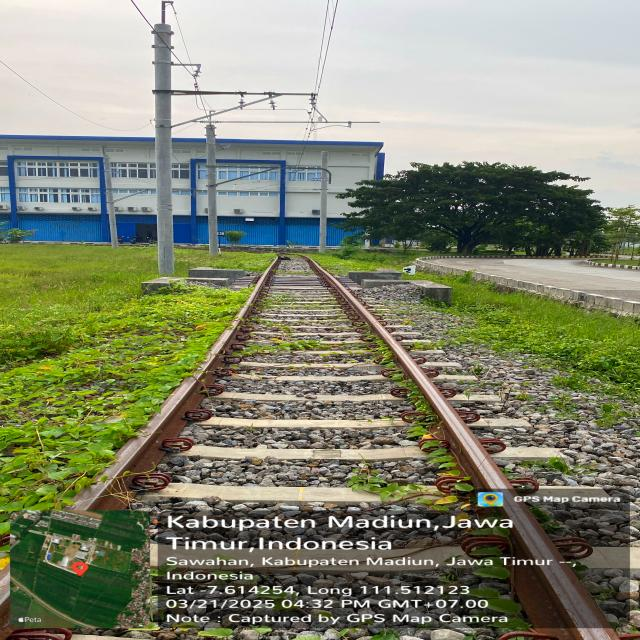rail-detection: (300, 256, 618, 640), (71, 256, 280, 510)
